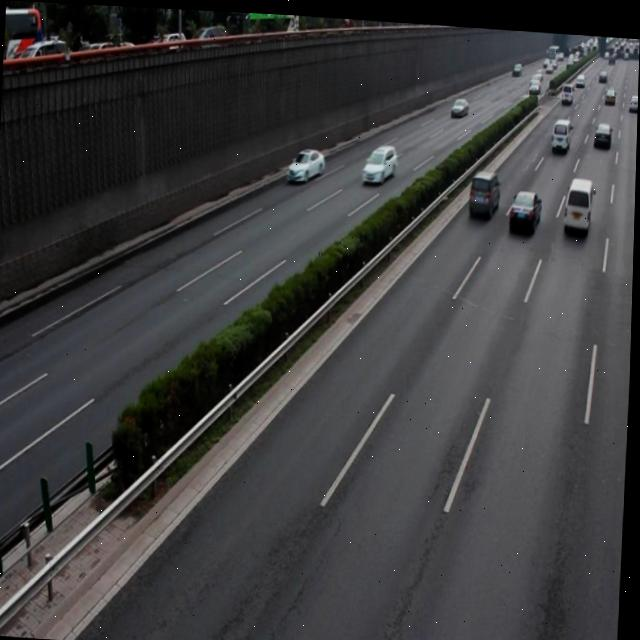car: (466, 163, 501, 215), (508, 182, 542, 230), (361, 137, 396, 180), (287, 142, 325, 180)
truck: (561, 169, 592, 228)
